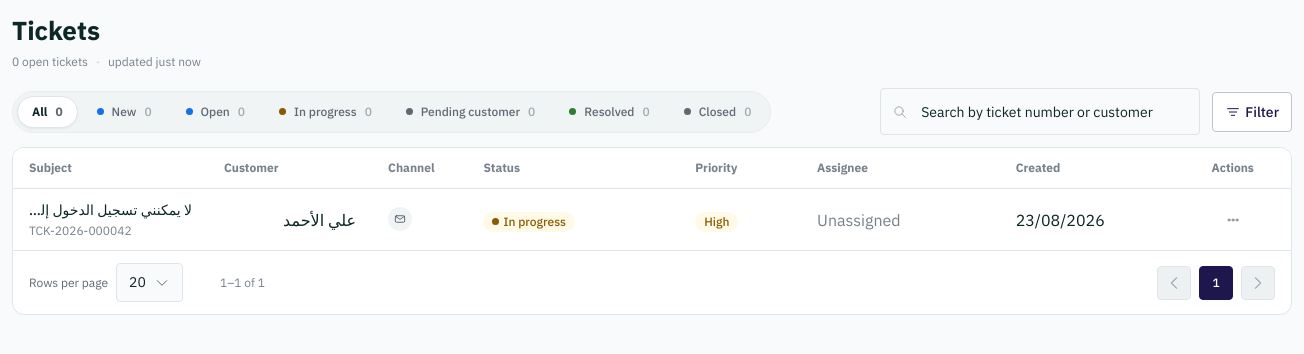
Test: the tabs write the URL, and the page requests what the URL says › puts the status in the URL and in the request
Click the tab "New 0" at (124, 112), box x1=82 y1=96 x2=167 y2=128
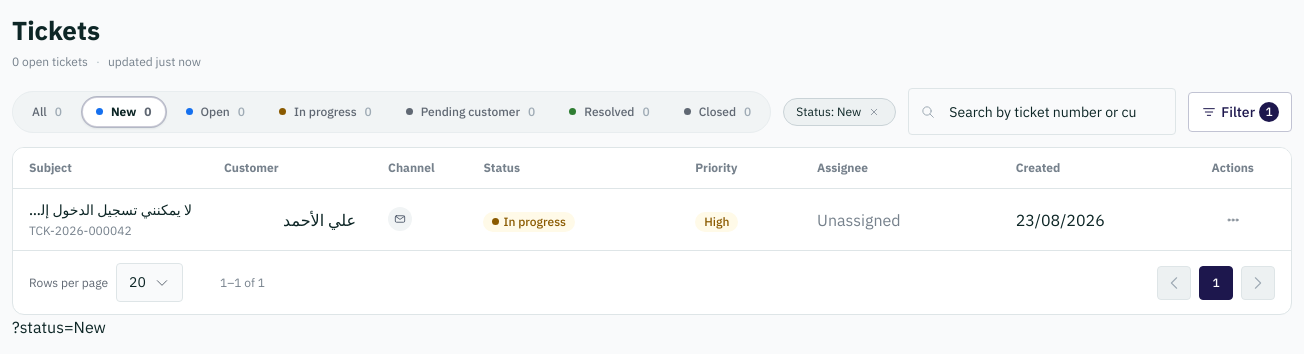
Expected: the text with test id "search" shows "status=New", x1=12 y1=318 x2=106 y2=338
